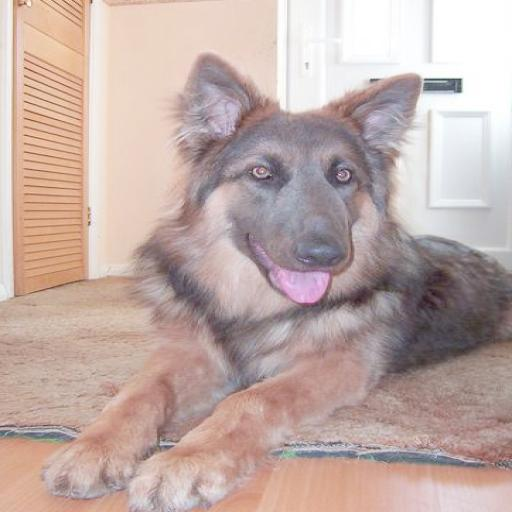dog_face: (175, 59, 416, 310)
